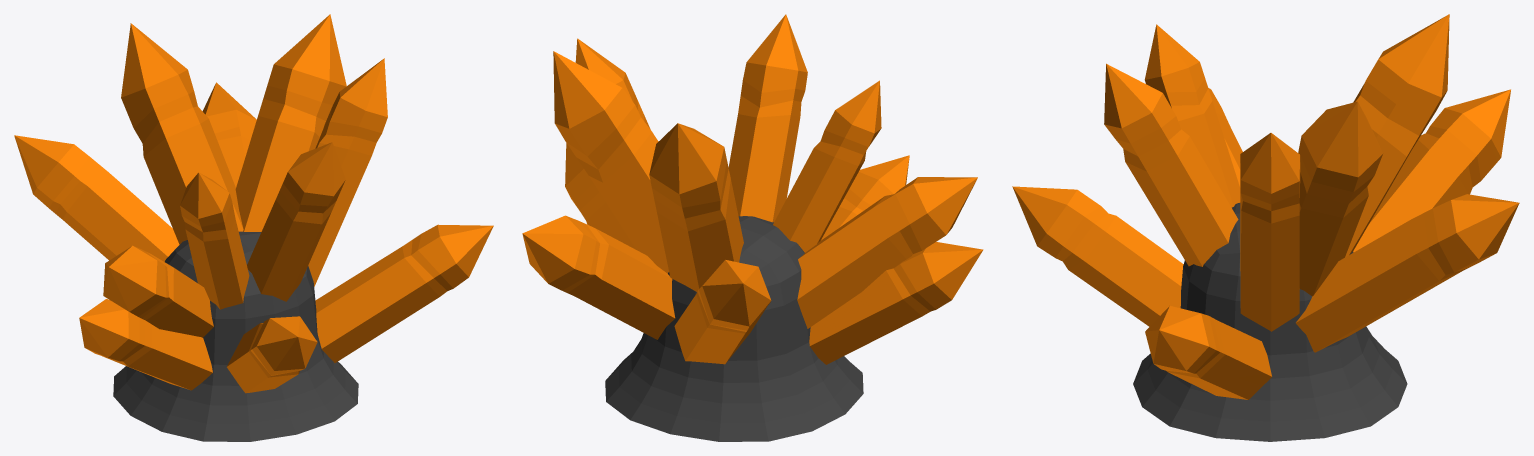
Rendered from mine4.glb.
3 views of the same model, side by side, from view 1: azimuth 30°, elevation 25°; view 2: azimuth 150°, elevation 25°; view 3: azimuth 270°, elevation 25° (orthographic). The views are drawn at different scales.
Parts seen in each view (by area): view 1: Mineral.004; view 2: Mineral.004; view 3: Mineral.004.
Boxes of the visible parts, left/top/right/bottom form: Mineral.004: left=14, top=14, right=493, bottom=441; Mineral.004: left=522, top=14, right=983, bottom=441; Mineral.004: left=1012, top=14, right=1519, bottom=441.
Bounding box in the file's own units: 3.04 × 2.26 × 2.92.
